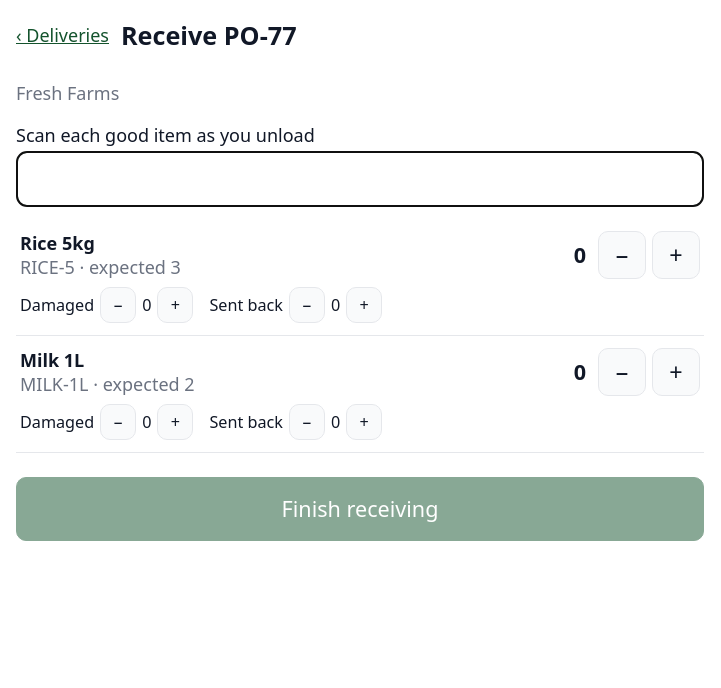
Test: receive screen › counts scans per line and records the delivery in the only receiving area
In the field labelled "Scan each good item as you unload": (360, 179) [16,151,704,207], type "111"
Then press Enter
(page scrolled)
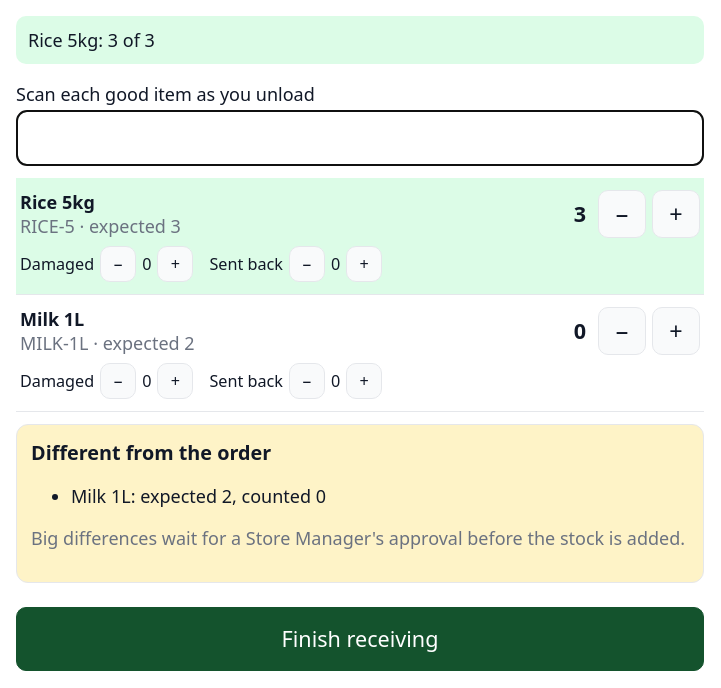
Check: the message reads "Rice 5kg: 3 of 3", box [28,28,155,52]
Check: the text named "Rice 5kg good" reads "3", box [574,199,586,228]
Check: the list item "Milk 1L: expected 2, counted 0" is shown, box [71,484,326,508]
Click the button "Finish receiving": (360, 639) [16,607,704,671]
(page scrolled)
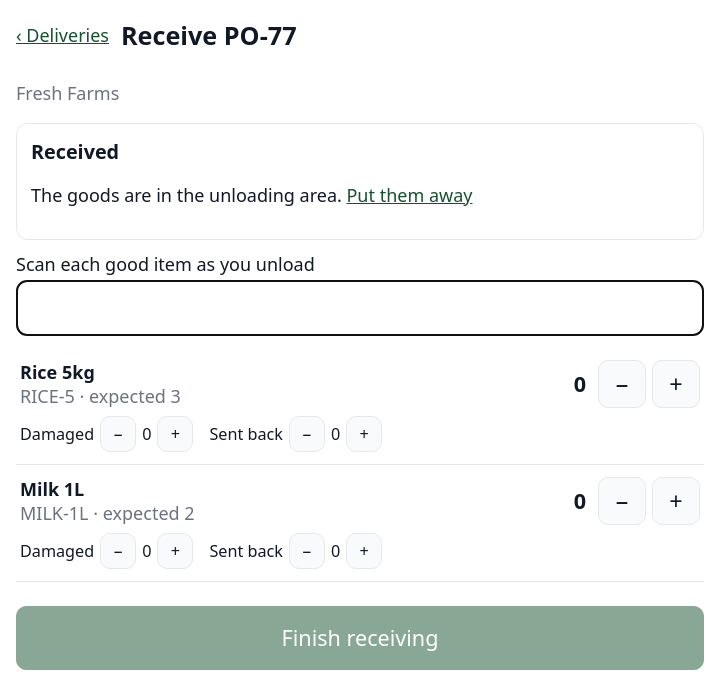
Check: the heading "Received" is shown, box [31,138,119,165]
Check: the text named "Rice 5kg good" reads "0", box [574,369,586,398]
